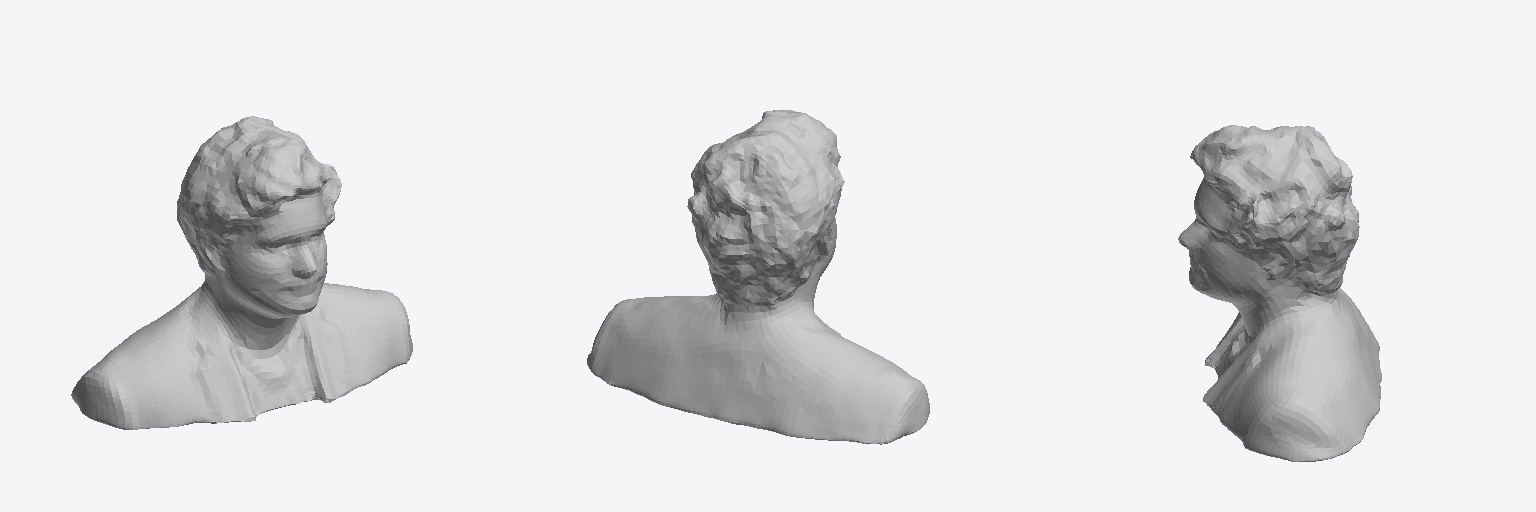
File: head_Test.OBJ
3 renders of one model, left to right at view 1: azimuth 30°, elevation 25°; view 2: azimuth 150°, elevation 25°; view 3: azimuth 270°, elevation 25°, orthographic.
Parts seen in each view (by area): view 1: Group19888; view 2: Group19888; view 3: Group19888.
Boxes of the visible parts, box(x1,y1,x2,y2) form: Group19888: box(71, 116, 412, 429); Group19888: box(587, 110, 929, 444); Group19888: box(1178, 125, 1381, 461).
Size of the model in its own units: 6.8 by 5.14 by 3.71.